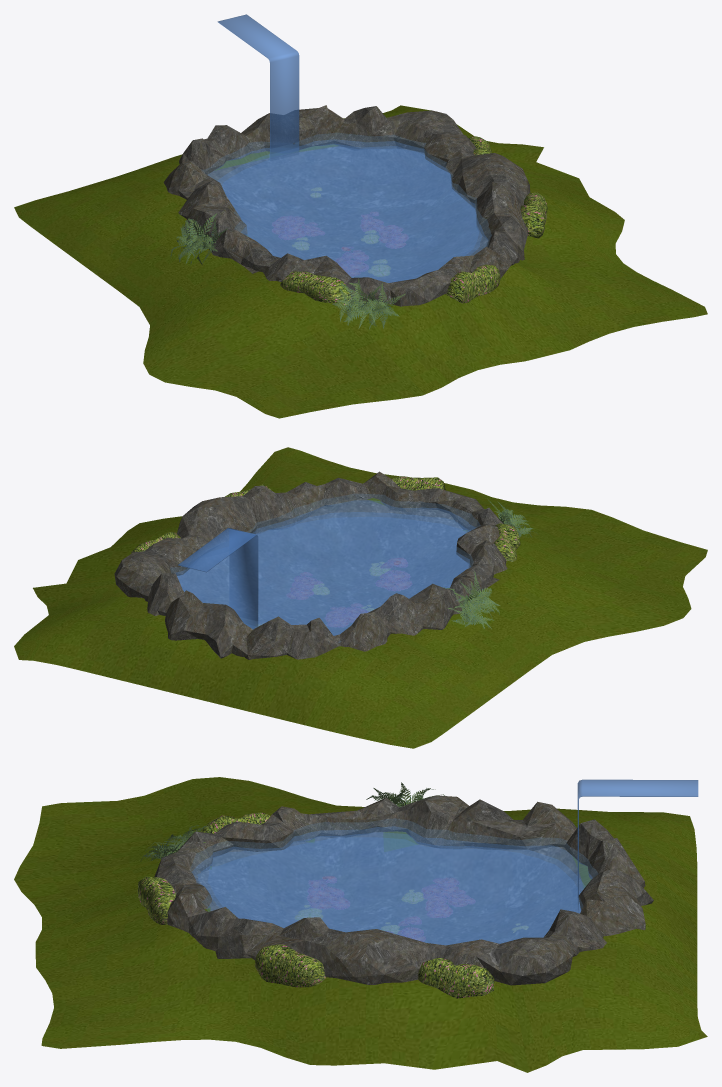
The model's file is ubs_ext_pond.gltf.
The picture shows the model from 3 angles, top to bottom: view 1: azimuth 30°, elevation 25°; view 2: azimuth 150°, elevation 25°; view 3: azimuth 270°, elevation 25°; orthographic projection. The views are drawn at different scales.
Visible parts, largest first — view 1: Plane.005, Plane.009, Plane.014, Model_rock.005, Plane.019, Plane.006, Model_Indoor_plant.023, Icosphere.013, Icosphere.014, Model_Indoor_plant.022, Icosphere.015, Fish_tank_plant.029; view 2: Plane.005, Model_rock.005, Plane.009, Plane.014, Plane.019, Plane.006, Model_Indoor_plant.022, Fish_tank_plant.029, Icosphere.013, Icosphere.014, Model_Indoor_plant.023; view 3: Plane.005, Model_rock.005, Plane.009, Plane.014, Plane.019, Plane.006, Icosphere.015, Icosphere.016, Icosphere.014, Fish_tank_plant.029, Model_Indoor_plant.023, Icosphere.013 (+2 smaller).
Part boxes in pixels (left/top/right/bottom): Plane.005: left=14, top=105, right=707, bottom=418; Plane.009: left=202, top=133, right=491, bottom=282; Plane.014: left=208, top=139, right=488, bottom=282; Model_rock.005: left=163, top=105, right=530, bottom=306; Plane.019: left=218, top=144, right=481, bottom=282; Plane.006: left=217, top=14, right=299, bottom=160; Model_Indoor_plant.023: left=332, top=278, right=405, bottom=329; Icosphere.013: left=280, top=271, right=352, bottom=304; Icosphere.014: left=445, top=264, right=500, bottom=303; Model_Indoor_plant.022: left=170, top=213, right=227, bottom=265; Icosphere.015: left=520, top=192, right=547, bottom=238; Fish_tank_plant.029: left=335, top=247, right=368, bottom=276; Plane.005: left=14, top=447, right=707, bottom=748; Model_rock.005: left=114, top=471, right=507, bottom=659; Plane.009: left=170, top=494, right=479, bottom=642; Plane.014: left=176, top=500, right=475, bottom=635; Plane.019: left=178, top=512, right=469, bottom=634; Plane.006: left=178, top=528, right=258, bottom=629; Model_Indoor_plant.022: left=443, top=571, right=500, bottom=628; Fish_tank_plant.029: left=375, top=558, right=411, bottom=591; Icosphere.013: left=493, top=523, right=520, bottom=561; Icosphere.014: left=391, top=476, right=445, bottom=490; Model_Indoor_plant.023: left=487, top=498, right=537, bottom=537; Plane.005: left=14, top=777, right=707, bottom=1072; Model_rock.005: left=154, top=795, right=653, bottom=985; Plane.009: left=190, top=819, right=597, bottom=944; Plane.014: left=192, top=826, right=592, bottom=944; Plane.019: left=198, top=833, right=584, bottom=944; Plane.006: left=577, top=779, right=698, bottom=911; Icosphere.015: left=254, top=944, right=325, bottom=987; Icosphere.016: left=418, top=958, right=494, bottom=998; Icosphere.014: left=137, top=876, right=176, bottom=924; Fish_tank_plant.029: left=307, top=876, right=349, bottom=909; Model_Indoor_plant.023: left=140, top=825, right=211, bottom=861; Icosphere.013: left=200, top=812, right=270, bottom=833.
Bounding box in the file's own units: 23.21 × 5.57 × 23.
8 materials, 5 textured.
